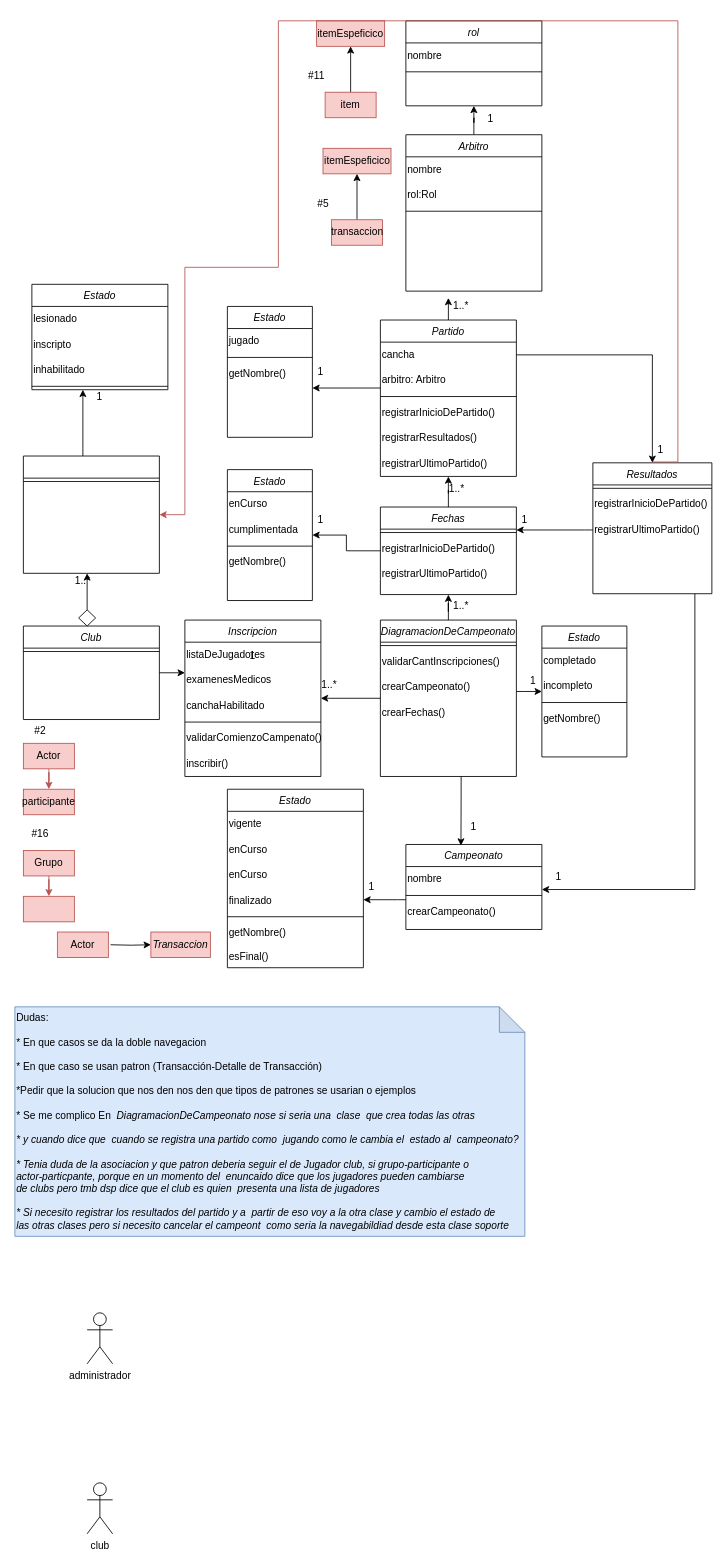
This 727x1567 diagram has some shape labels left out. The centre of each missing label's shape, as x and y in pixels:
"Jugador" belongs at point (91, 514).
"Miebro" belongs at point (48, 908).
